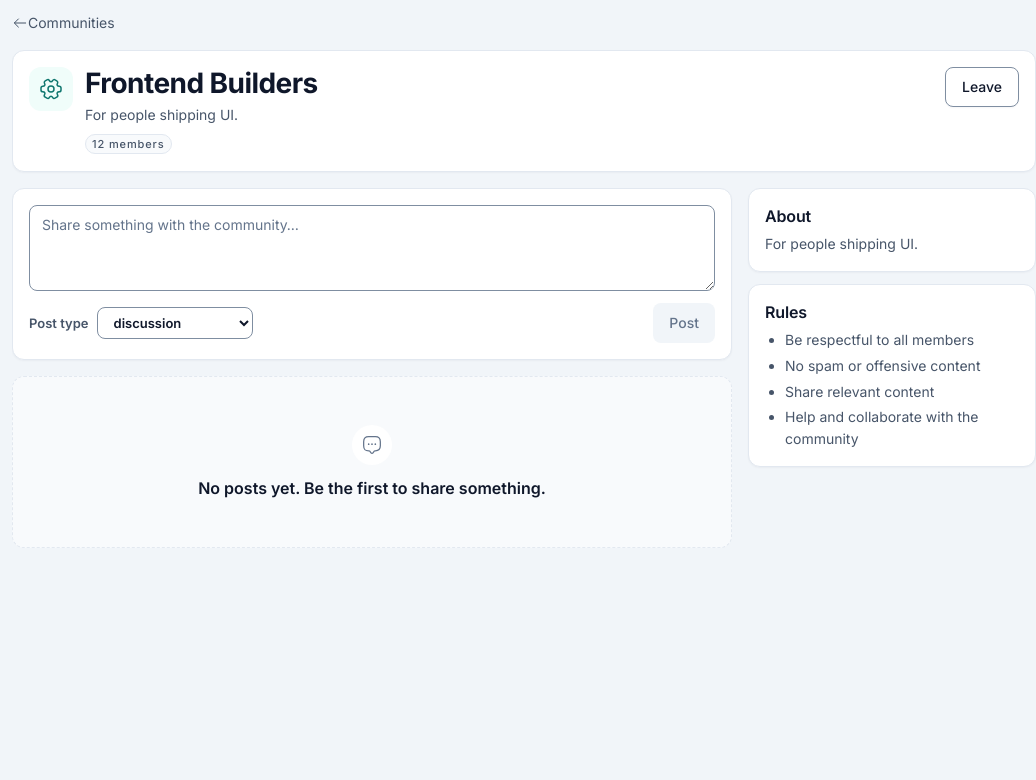
Test: CommunityFeedPage › shows the backend's own refusal when a creator tries to leave, instead of hiding the button
Click the button "Leave" at (982, 87), box [945,67,1019,107]
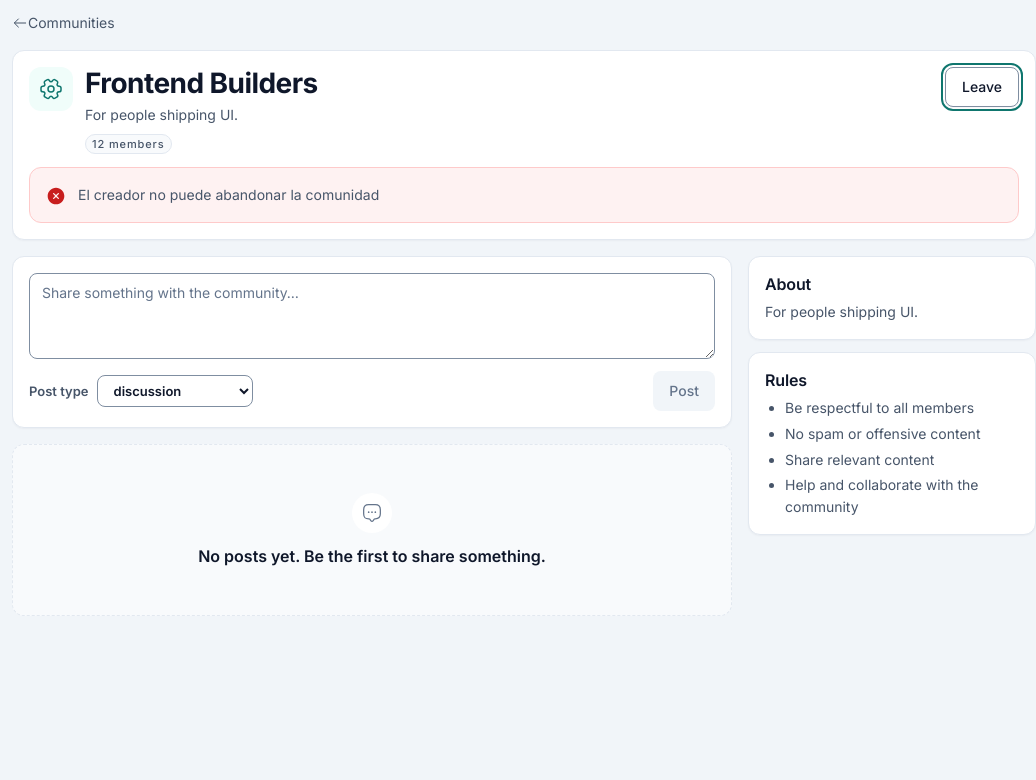
expect the message reads "El creador no puede abandonar la comunidad": met, box [78,186,379,203]
